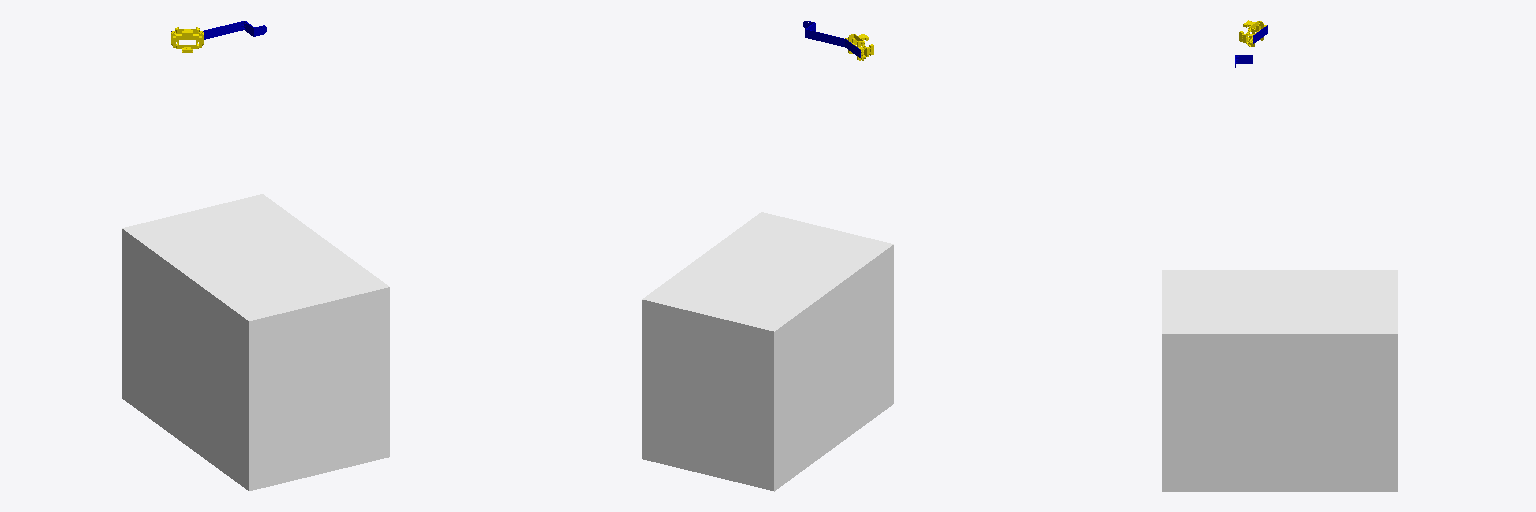
robot.urdf — S20:
<?xml version="1.0" ?>
<robot name="S20">
  <!-- material definition -->
  <material name="black">
    <color rgba="0.0 0.0 0.0 1.0"/>
  </material>
  <material name="blue">
    <color rgba="0.0 0.0 0.8 1.0"/>
  </material>
  <material name="green">
    <color rgba="0.0 0.8 0.0 1.0"/>
  </material>
  <material name="grey">
    <color rgba="0.2 0.2 0.2 1.0"/>
  </material>
  <material name="orange">
    <color rgba="1.0 0.4235294117647059 0.0392156862745098 1.0"/>
  </material>
  <material name="brown">
    <color rgba="0.8705882352941177 0.8117647058823529 0.7647058823529411 1.0"/>
  </material>
  <material name="red">
    <color rgba="0.8 0.0 0.0 1.0"/>
  </material>
  <material name="white">
    <color rgba="1.0 1.0 1.0 1.0"/>
  </material>
  <material name="metal">
    <color rgba="0.768627450980392 0.749019607843137 0.729411764705882 1"/>
  </material>
  <material name="metal_grey">
    <color rgba="0.501960784313725 0.501960784313725 0.501960784313725 1"/>
  </material>
  <material name="metal_white">
    <color rgba="0.866666666666667 0.866666666666667 0.890196078431373 1"/>
  </material>
  <!-- ros_control plugin -->
  <gazebo>
    <plugin filename="libgazebo_ros_control.so" name="gazebo_ros_control">
      <robotSimType>gazebo_ros_control/DefaultRobotHWSim</robotSimType>
      <legacyModeNS>true</legacyModeNS>
    </plugin>
  </gazebo>
  <gazebo reference="elfin_link2">
    <visual name="visual">
      <material>
        <script>
          <uri>file:/[local-path]/scripts/gazebo.material</uri>
          <name>Gazebo/Grey</name>
        </script>
      </material>
    </visual>
  </gazebo>
  <gazebo reference="elfin_link4">
    <visual name="visual">
      <material>
        <script>
          <uri>file:/[local-path]/scripts/gazebo.material</uri>
          <name>Gazebo/Grey</name>
        </script>
      </material>
    </visual>
  </gazebo>
  <!-- transmission for each joint -->
  <transmission name="elfin_joint1_trans">
    <type>transmission_interface/SimpleTransmission</type>
    <joint name="elfin_joint1">
      <hardwareInterface>hardware_interface/PositionJointInterface</hardwareInterface>
    </joint>
    <actuator name="elfin_joint1_motor">
      <mechanicalReduction>1</mechanicalReduction>
    </actuator>
  </transmission>
  <transmission name="elfin_joint2_trans">
    <type>transmission_interface/SimpleTransmission</type>
    <joint name="elfin_joint2">
      <hardwareInterface>hardware_interface/PositionJointInterface</hardwareInterface>
    </joint>
    <actuator name="elfin_joint2_motor">
      <mechanicalReduction>1</mechanicalReduction>
    </actuator>
  </transmission>
  <transmission name="elfin_joint3_trans">
    <type>transmission_interface/SimpleTransmission</type>
    <joint name="elfin_joint3">
      <hardwareInterface>hardware_interface/PositionJointInterface</hardwareInterface>
    </joint>
    <actuator name="elfin_joint3_motor">
      <mechanicalReduction>1</mechanicalReduction>
    </actuator>
  </transmission>
  <transmission name="elfin_joint4_trans">
    <type>transmission_interface/SimpleTransmission</type>
    <joint name="elfin_joint4">
      <hardwareInterface>hardware_interface/PositionJointInterface</hardwareInterface>
    </joint>
    <actuator name="elfin_joint4_motor">
      <mechanicalReduction>1</mechanicalReduction>
    </actuator>
  </transmission>
  <transmission name="elfin_joint5_trans">
    <type>transmission_interface/SimpleTransmission</type>
    <joint name="elfin_joint5">
      <hardwareInterface>hardware_interface/PositionJointInterface</hardwareInterface>
    </joint>
    <actuator name="elfin_joint5_motor">
      <mechanicalReduction>1</mechanicalReduction>
    </actuator>
  </transmission>
  <transmission name="elfin_joint6_trans">
    <type>transmission_interface/SimpleTransmission</type>
    <joint name="elfin_joint6">
      <hardwareInterface>hardware_interface/PositionJointInterface</hardwareInterface>
    </joint>
    <actuator name="elfin_joint6_motor">
      <mechanicalReduction>1</mechanicalReduction>
    </actuator>
  </transmission>
  <!-- link and joint -->
  <link name="world"/>
  <joint name="mobile_base_joint1" type="fixed">
    <origin rpy="0 0 0" xyz="0 0 0"/>
    <parent link="world"/>
    <child link="mobile_base_link1"/>
  </joint>
  <link name="mobile_base_link1">
    <visual>
      <origin rpy="0 0 0" xyz="0 0 0.05"/>
      <geometry>
        <box size="0.1 0.1 0.1"/>
      </geometry>
      <material name="">
        <color rgba="1 1 1 1"/>
      </material>
    </visual>
    <collision>
      <origin rpy="0 0 0" xyz="0 0 0.05"/>
      <geometry>
        <box size="0.1 0.1 0.1"/>
      </geometry>
    </collision>
    <inertial>
      <origin rpy="0 0 0" xyz="0 0 0.05" />
      <mass value="1.0" />
      <inertia
        ixx="1.0" ixy="0.0" ixz="0.0"
        iyy="1.0" iyz="0.0"
        izz="1.0" />
    </inertial>
  </link>
  <joint name="mobile_base_joint2" type="fixed">
    <origin rpy="0 0 0" xyz="0 0 0"/>
    <parent link="mobile_base_link1"/>
    <child link="mobile_base_link2"/>
  </joint>
  <link name="mobile_base_link2">
    <visual>
      <origin rpy="0 0 0" xyz="0 0 0.59"/>
      <geometry>
        <box size="1.024 1.6 1.18"/>
      </geometry>
      <material name="">
        <color rgba="1 1 1 1"/>
      </material>
    </visual>
    <collision>
      <origin rpy="0 0 0" xyz="0 0 0.59"/>
      <geometry>
        <box size="1.024 1.6 1.18"/>
      </geometry>
    </collision>
    <inertial>
      <origin rpy="0 0 0" xyz="0 0 0.59" />
      <mass value="1.0" />
      <inertia
        ixx="1.0" ixy="0.0" ixz="0.0"
        iyy="1.0" iyz="0.0"
        izz="1.0" />
    </inertial>
  </link>
  <joint name="elfin_fixed_joint" type="fixed">
    <origin rpy="0 0 0" xyz="0 0 1.18"/>
    <parent link="mobile_base_link2"/>
    <child link="elfin_base_link"/>
  </joint>
  <link name="elfin_base_link"/>
  <joint name="elfin_base_joint" type="fixed">
    <origin rpy="0 0 0" xyz="0 0 0"/>
    <parent link="elfin_base_link"/>
    <child link="elfin_base"/>
  </joint>
  <link name="elfin_base">
    <inertial>
      <origin rpy="0 0 0" xyz="-0.00131650768656017 3.86349405459754E-05 0.0343213199540785"/>
      <mass value="2.32181468230125"/>
      <inertia ixx="0.00741739022505177" ixy="-9.4225231258528E-05" ixz="-5.45619950886553E-05" iyy="0.00699483778046143" iyz="1.30022773204213E-06" izz="0.0123390065438587"/>
    </inertial>
    <visual>
      <origin rpy="0 0 0" xyz="0 0 0"/>
      <geometry>
        <mesh filename="package://elfin_description/meshes/S20/elfin_base.STL"/>
      </geometry>
      <material name="">
        <color rgba="0.752941176470588 0.752941176470588 0.752941176470588 1"/>
      </material>
    </visual>
    <collision>
      <origin rpy="0 0 0" xyz="0 0 0"/>
      <geometry>
        <mesh filename="package://elfin_description/meshes/S20/elfin_base.STL"/>
      </geometry>
    </collision>
  </link>
  <link name="elfin_link1">
    <inertial>
      <origin rpy="0 0 0" xyz="-1.0792519167212E-07 -0.0224399626110038 0.00175002240516534"/>
      <mass value="6.93455742496729"/>
      <inertia ixx="0.0460589183335357" ixy="5.43718136375216E-07" ixz="2.96738634298801E-07" iyy="0.0375916708812216" iyz="-0.000245581780149179" izz="0.0394268304468804"/>
    </inertial>
    <visual>
      <origin rpy="0 0 0" xyz="0 0 0"/>
      <geometry>
        <mesh filename="package://elfin_description/meshes/S20/elfin_link1.STL"/>
      </geometry>
      <material name="">
        <color rgba="0.898039215686275 0.917647058823529 0.929411764705882 1"/>
      </material>
    </visual>
    <collision>
      <origin rpy="0 0 0" xyz="0 0 0"/>
      <geometry>
        <mesh filename="package://elfin_description/meshes/S20/elfin_link1.STL"/>
      </geometry>
    </collision>
  </link>
  <joint name="elfin_joint1" type="revolute">
    <origin rpy="0 0 0" xyz="0 0 0.171"/>
    <parent link="elfin_base"/>
    <child link="elfin_link1"/>
    <axis xyz="0 0 1"/>
    <limit effort="200" lower="-6.28" upper="6.28" velocity="1.57"/>
  </joint>
  <link name="elfin_link2">
    <inertial>
      <origin rpy="0 0 0" xyz="-0.370229694350317 9.38128437405483E-07 0.000899041883029139"/>
      <mass value="18.8395085758056"/>
      <inertia ixx="0.0687507132351259" ixy="-5.05507420279161E-07" ixz="-6.41343868263508E-05" iyy="0.411200291693132" iyz="-1.80729528146994E-07" izz="0.40138597350588"/>
    </inertial>
    <visual>
      <origin rpy="0 0 0" xyz="0 0 0"/>
      <geometry>
        <mesh filename="package://elfin_description/meshes/S20/elfin_link2.STL"/>
      </geometry>
      <material name="">
        <color rgba="0.752941176470588 0.752941176470588 0.752941176470588 1"/>
      </material>
    </visual>
    <collision>
      <origin rpy="0 0 0" xyz="0 0 0"/>
      <geometry>
        <mesh filename="package://elfin_description/meshes/S20/elfin_link2.STL"/>
      </geometry>
    </collision>
  </link>
  <joint name="elfin_joint2" type="revolute">
    <origin rpy="1.5708 1.5708 0" xyz="0 -0.2295 0"/>
    <parent link="elfin_link1"/>
    <child link="elfin_link2"/>
    <axis xyz="0 0 1"/>
    <limit effort="200" lower="-3.3158" upper="0.1745" velocity="1.57"/>
  </joint>
  <link name="elfin_link3">
    <inertial>
      <origin rpy="0 0 0" xyz="0.310973076601113 -4.7405306624615E-09 0.0109938899740937"/>
      <mass value="7.53508270364931"/>
      <inertia ixx="0.0133872719937165" ixy="1.91460600478011E-07" ixz="0.00152175061957157" iyy="0.11837455186459" iyz="-2.26041817837737E-08" izz="0.116582348081593"/>
    </inertial>
    <visual>
      <origin rpy="0 0 0" xyz="0 0 0"/>
      <geometry>
        <mesh filename="package://elfin_description/meshes/S20/elfin_link3.STL"/>
      </geometry>
      <material name="">
        <color rgba="0.752941176470588 0.752941176470588 0.752941176470588 1"/>
      </material>
    </visual>
    <collision>
      <origin rpy="0 0 0" xyz="0 0 0"/>
      <geometry>
        <mesh filename="package://elfin_description/meshes/S20/elfin_link3.STL"/>
      </geometry>
    </collision>
  </link>
  <joint name="elfin_joint3" type="revolute">
    <origin rpy="0 0 3.1416" xyz="-0.85 0 -0.1885"/>
    <parent link="elfin_link2"/>
    <child link="elfin_link3"/>
    <axis xyz="0 0 1"/>
    <limit effort="200" lower="-2.9319" upper="2.9319" velocity="1.57"/>
  </joint>
  <link name="elfin_link4">
    <inertial>
      <origin rpy="0 0 0" xyz="8.5204157129759E-07 -0.00559612992738279 0.124499710924349"/>
      <mass value="1.26777180180805"/>
      <inertia ixx="0.00300888445161096" ixy="1.64612435809042E-08" ixz="3.62281943568331E-08" iyy="0.00214465218602862" iyz="9.35786831203314E-05" izz="0.00239761638151984"/>
    </inertial>
    <visual>
      <origin rpy="0 0 0" xyz="0 0 0"/>
      <geometry>
        <mesh filename="package://elfin_description/meshes/S20/elfin_link4.STL"/>
      </geometry>
      <material name="">
        <color rgba="0.898039215686275 0.917647058823529 0.929411764705882 1"/>
      </material>
    </visual>
    <collision>
      <origin rpy="0 0 0" xyz="0 0 0"/>
      <geometry>
        <mesh filename="package://elfin_description/meshes/S20/elfin_link4.STL"/>
      </geometry>
    </collision>
  </link>
  <joint name="elfin_joint4" type="revolute">
    <origin rpy="0 0 0" xyz="0.712 0 0"/>
    <parent link="elfin_link3"/>
    <child link="elfin_link4"/>
    <axis xyz="0 0 1"/>
    <limit effort="104" lower="-6.28" upper="6.28" velocity="1.57"/>
  </joint>
  <link name="elfin_link5">
    <inertial>
      <origin rpy="0 0 0" xyz="-1.58900480728974E-06 0.00559613044782842 0.124499711309393"/>
      <mass value="1.26777180180803"/>
      <inertia ixx="0.00300888445161093" ixy="1.64612435696446E-08" ixz="-3.62281943491141E-08" iyy="0.00214465218602857" iyz="-9.35786831203246E-05" izz="0.00239761638151982"/>
    </inertial>
    <visual>
      <origin rpy="0 0 0" xyz="0 0 0"/>
      <geometry>
        <mesh filename="package://elfin_description/meshes/S20/elfin_link5.STL"/>
      </geometry>
      <material name="">
        <color rgba="0.752941176470588 0.752941176470588 0.752941176470588 1"/>
      </material>
    </visual>
    <collision>
      <origin rpy="0 0 0" xyz="0 0 0"/>
      <geometry>
        <mesh filename="package://elfin_description/meshes/S20/elfin_link5.STL"/>
      </geometry>
    </collision>
  </link>
  <joint name="elfin_joint5" type="revolute">
    <origin rpy="-1.5708 0 0" xyz="0 0 0.138"/>
    <parent link="elfin_link4"/>
    <child link="elfin_link5"/>
    <axis xyz="0 0 1"/>
    <limit effort="34" lower="-6.28" upper="6.28" velocity="1.57"/>
  </joint>
  <link name="elfin_link6">
    <inertial>
      <origin rpy="0 0 0" xyz="-7.47115137089693E-07 0.000102435646244473 0.0904183015693256"/>
      <mass value="0.468079508708449"/>
      <inertia ixx="0.000412770805513074" ixy="1.60636639637837E-08" ixz="-3.02343967687703E-08" iyy="0.000415704740293176" iyz="1.46595766333508E-07" izz="0.000530952415351683"/>
    </inertial>
    <visual>
      <origin rpy="0 0 0" xyz="0 0 0"/>
      <geometry>
        <mesh filename="package://elfin_description/meshes/S20/elfin_link6.STL"/>
      </geometry>
      <material name="">
        <color rgba="0.752941176470588 0.752941176470588 0.752941176470588 1"/>
      </material>
    </visual>
    <collision>
      <origin rpy="0 0 0" xyz="0 0 0"/>
      <geometry>
        <mesh filename="package://elfin_description/meshes/S20/elfin_link6.STL"/>
      </geometry>
    </collision>
  </link>
  <joint name="elfin_joint6" type="revolute">
    <origin rpy="1.5708 0 0" xyz="0 0 0.138"/>
    <parent link="elfin_link5"/>
    <child link="elfin_link6"/>
    <axis xyz="0 0 1"/>
    <limit effort="34" lower="-6.28" upper="6.28" velocity="1.57"/>
  </joint>
  <link name="elfin_end_link">
  </link>
  <joint name="elfin_end_joint" type="fixed">
    <origin rpy="0 0 3.1416" xyz="0 0 0.1257"/>
    <parent link="elfin_link6"/>
    <child link="elfin_end_link"/>
  </joint>
  <link name="ee_link">
    <visual>
      <origin rpy="0 0 0" xyz="0 0 0"/>
      <geometry>
        <mesh filename="package://elfin_description/meshes/S20/ee_link.STL"/>
      </geometry>
      <material name="">
        <color rgba="0 0 0.8 1"/>
      </material>
    </visual>
    <collision>
      <origin rpy="0 0 0" xyz="0 0 0"/>
      <geometry>
        <mesh filename="package://elfin_description/meshes/S20/ee_link.STL"/>
      </geometry>
    </collision>
  </link>
  <joint name="ee_link_joint" type="fixed">
    <origin rpy="-1.5707 0 1.5707" xyz="0.035 -0.155 0"/>
    <parent link="elfin_end_link"/>
    <child link="ee_link"/>
  </joint>
  <link name="gripper_link0">
    <visual>
      <origin rpy="0 0 0" xyz="0 0 0"/>
      <geometry>
        <mesh filename="package://elfin_description/meshes/S20/gripper_link.STL"/>
      </geometry>
      <material name="">
        <color rgba="0 0 0.8 1"/>
      </material>
    </visual>
    <collision>
      <origin rpy="0 0 0" xyz="0 0 0"/>
      <geometry>
        <mesh filename="package://elfin_description/meshes/S20/gripper_link.STL"/>
      </geometry>
    </collision>
  </link>
  <joint name="gripper_link_joint0" type="fixed">
    <origin rpy="1.5707 0 0" xyz="-0.1 0.124 0"/>
    <parent link="ee_link"/>
    <child link="gripper_link0"/>
  </joint>
  <link name="gripper_link1">
    <visual>
      <origin rpy="0 0 0" xyz="0 0 0"/>
      <geometry>
        <mesh filename="package://elfin_description/meshes/S20/gripper_link.STL"/>
      </geometry>
      <material name="">
        <color rgba="0 0 0.8 1"/>
      </material>
    </visual>
    <collision>
      <origin rpy="0 0 0" xyz="0 0 0"/>
      <geometry>
        <mesh filename="package://elfin_description/meshes/S20/gripper_link.STL"/>
      </geometry>
    </collision>
  </link>
  <joint name="gripper_link_joint1" type="fixed">
    <origin rpy="0 0 0" xyz="-0.1 0 0"/>
    <parent link="gripper_link0"/>
    <child link="gripper_link1"/>
  </joint>
  <link name="gripper_link_ee1">
    <visual>
      <origin rpy="0 0 0" xyz="0 0 0"/>
      <geometry>
        <mesh filename="package://elfin_description/meshes/S20/gripper_link.STL"/>
      </geometry>
      <material name="">
        <color rgba="0 0 0.8 1"/>
      </material>
    </visual>
    <collision>
      <origin rpy="0 0 0" xyz="0 0 0"/>
      <geometry>
        <mesh filename="package://elfin_description/meshes/S20/gripper_link.STL"/>
      </geometry>
    </collision>
  </link>
  <joint name="gripper_link_joint_ee1" type="fixed">
    <origin rpy="0 -0.5235 0" xyz="-0.0866 0 -0.05"/>
    <parent link="gripper_link1"/>
    <child link="gripper_link_ee1"/>
  </joint>
  <link name="gripper_link_ee2">
    <visual>
      <origin rpy="0 0 0" xyz="0 0 0"/>
      <geometry>
        <mesh filename="package://elfin_description/meshes/S20/gripper_link.STL"/>
      </geometry>
      <material name="">
        <color rgba="0 0 0.8 1"/>
      </material>
    </visual>
    <collision>
      <origin rpy="0 0 0" xyz="0 0 0"/>
      <geometry>
        <mesh filename="package://elfin_description/meshes/S20/gripper_link.STL"/>
      </geometry>
    </collision>
  </link>
  <joint name="gripper_link_joint_ee2" type="fixed">
    <origin rpy="0 0 0" xyz="-0.1 0 0"/>
    <parent link="gripper_link_ee1"/>
    <child link="gripper_link_ee2"/>
  </joint>
  <link name="needle_gripper">
    <visual>
      <origin rpy="0 0 0" xyz="0 0 0"/>
      <geometry>
        <mesh filename="package://elfin_description/meshes/S20/needle_gripper.STL"/>
      </geometry>
      <material name="">
        <color rgba="1.0 0.92 0.016 1"/>
      </material>
    </visual>
    <collision>
      <origin rpy="0 0 0" xyz="0 0 0"/>
      <geometry>
        <mesh filename="package://elfin_description/meshes/S20/needle_gripper.STL"/>
      </geometry>
    </collision>
  </link>
  <joint name="gripper_joint" type="fixed">
    <origin rpy="-1.5708 0 0" xyz="0.106 0.0305 0.09"/>
    <parent link="gripper_link_ee2"/>
    <child link="needle_gripper"/>
  </joint>

</robot>

--- What the picture shows (computed from the rendered views, not written in the file) ---
The picture shows the robot from 3 angles, left to right: view 1: azimuth 30°, elevation 25°; view 2: azimuth 150°, elevation 25°; view 3: azimuth 270°, elevation 25°; orthographic projection.
Robot: S20 — 18 links, 17 joints (6 revolute, 11 fixed); root link world; default pose: every joint at zero.
Visible links, largest first — view 1: mobile_base_link2, needle_gripper; view 2: mobile_base_link2; view 3: mobile_base_link2.
Boxes of the visible links, x1,y1,x2,y2 form: mobile_base_link2: (122,194,389,490); needle_gripper: (171,27,203,52); mobile_base_link2: (642,212,893,491); mobile_base_link2: (1162,270,1397,491).
Bounding box of the posed robot: 1.22 × 1.6 × 2.98 m (x, y, z).
Meshes: 10 distinct files referenced, 6 mesh visuals loaded (3 binary STL); not drawn: 7 (reference not matched to a file when rendering).